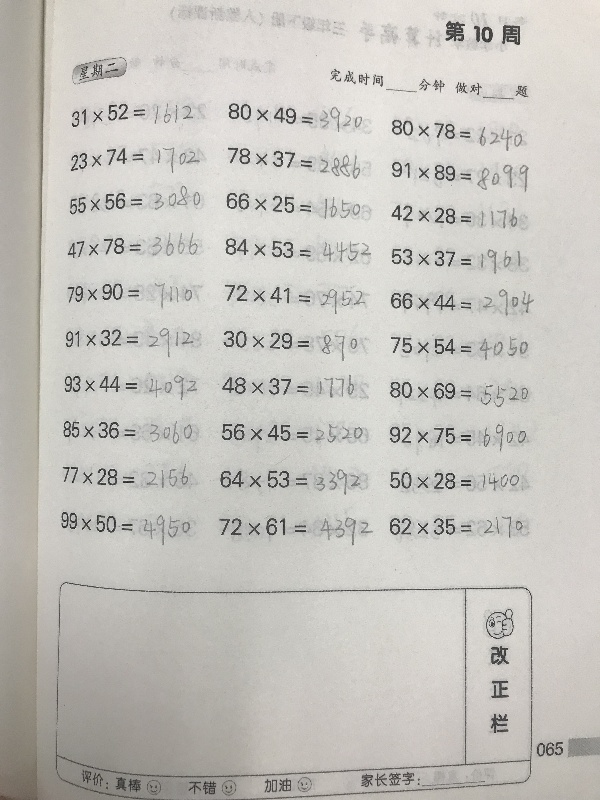equation: (215, 510, 377, 545), (61, 320, 204, 357), (57, 509, 193, 547), (387, 286, 538, 320), (390, 115, 525, 153), (216, 465, 366, 499), (386, 421, 534, 455), (221, 283, 368, 316), (219, 327, 361, 361), (224, 101, 366, 134), (386, 376, 532, 408), (60, 367, 201, 400), (58, 414, 197, 447), (388, 333, 532, 364), (223, 145, 365, 176), (387, 245, 524, 277), (64, 229, 201, 261), (386, 513, 534, 542), (221, 236, 374, 264), (222, 191, 364, 221), (59, 461, 196, 492), (213, 372, 358, 401), (65, 186, 204, 216), (391, 160, 529, 190), (217, 420, 371, 446), (64, 279, 195, 309), (67, 99, 196, 129), (387, 202, 521, 230), (386, 468, 527, 494), (66, 145, 146, 172)
